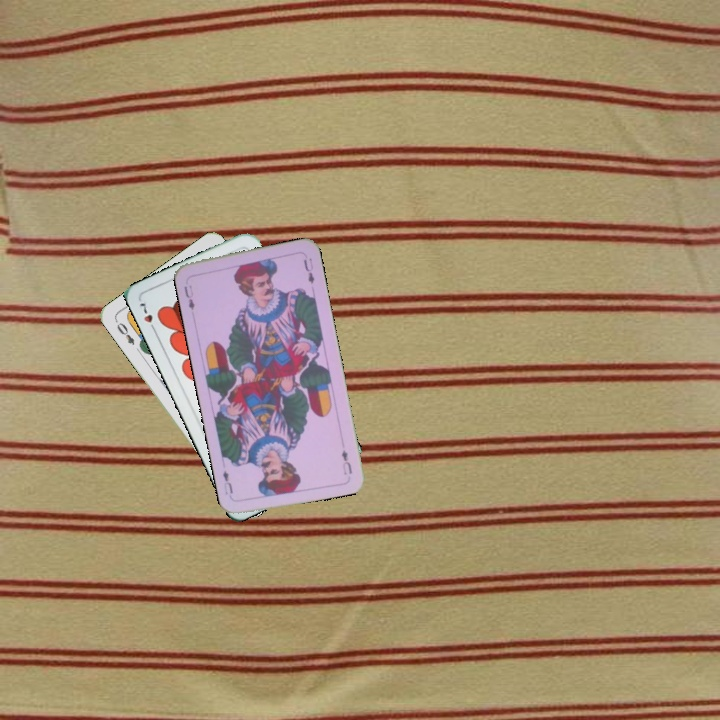EO: (111, 316, 137, 348)
EU: (180, 281, 197, 312), (338, 446, 355, 477)
H7: (135, 299, 159, 335)
